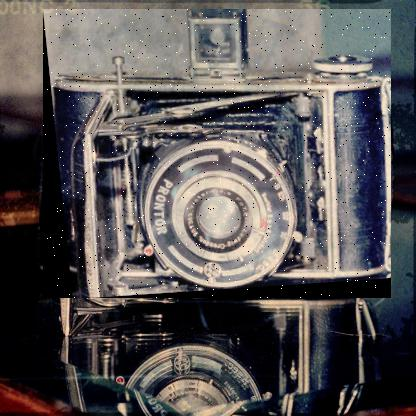Camera: (44, 10, 393, 300)
